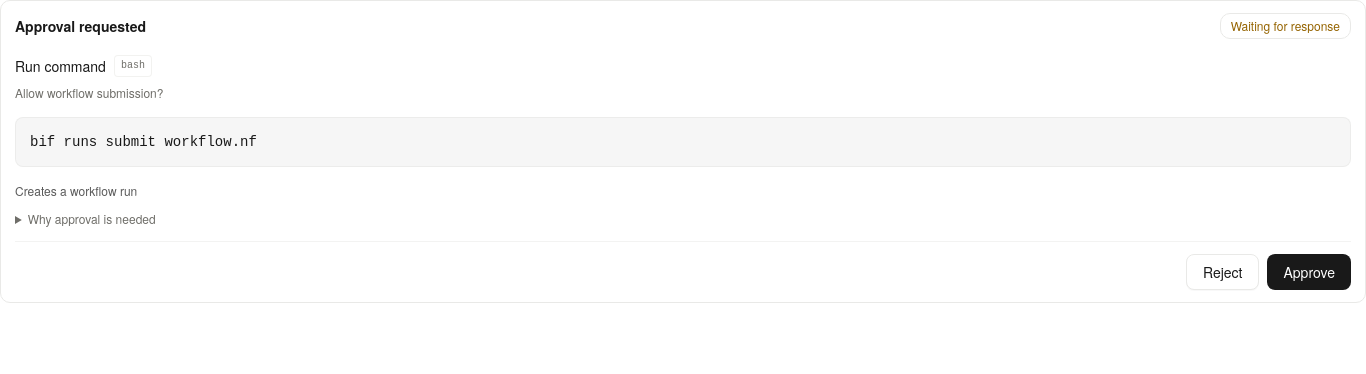
Test case: AgentInteractionCard › shows a public error and allows retry after submission fails
Later steps or results of the test are not shown.
Click the button "Approve": (1309, 272) [1268,254,1351,290]
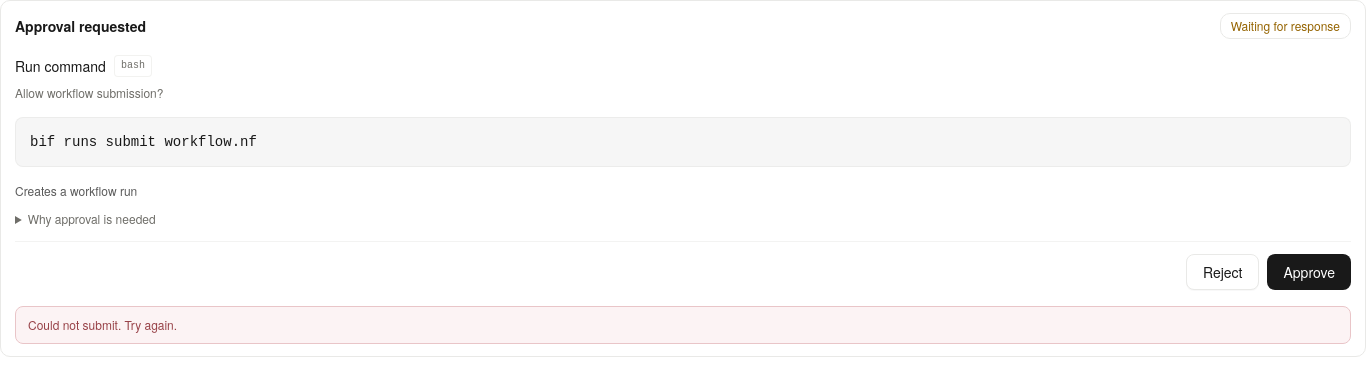
Now the message reads "Could not submit. Try again.", box [28,316,177,333]
